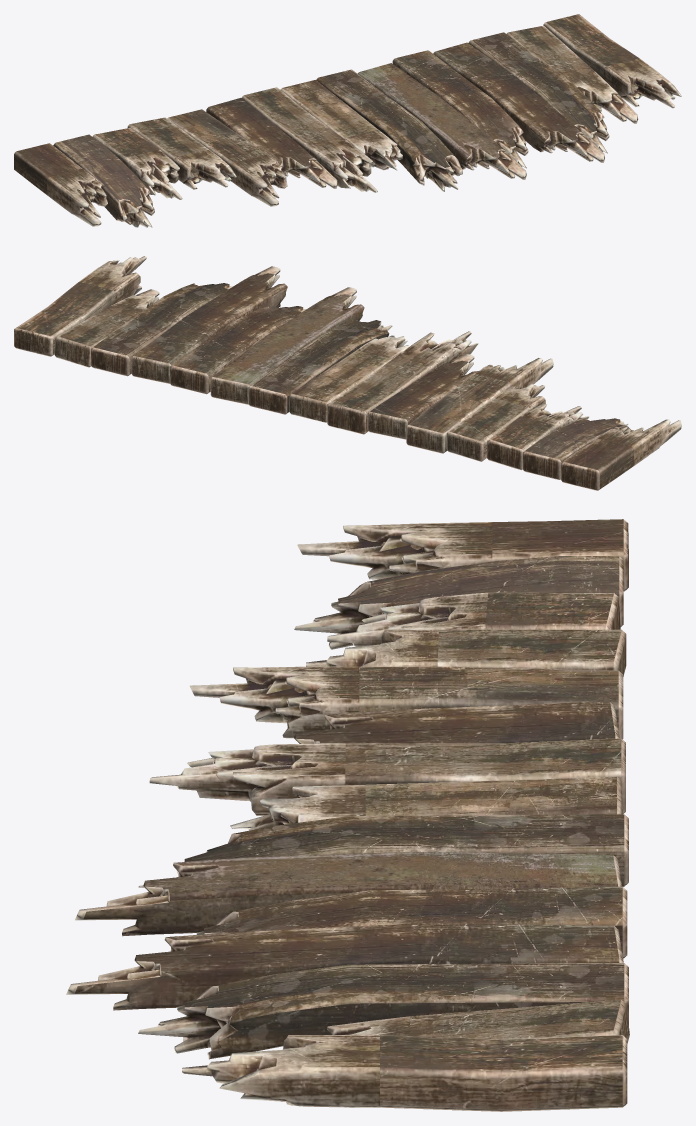
3 renders of one model, top to bottom at view 1: azimuth 30°, elevation 25°; view 2: azimuth 150°, elevation 25°; view 3: azimuth 270°, elevation 25°, orthographic. The views are drawn at different scales.
Visible parts, largest first — view 1: SM_Human_Ruins_Floor_Wood_Dmg_02_LOD0; view 2: SM_Human_Ruins_Floor_Wood_Dmg_02_LOD0; view 3: SM_Human_Ruins_Floor_Wood_Dmg_02_LOD0.
Part boxes in pixels (x1,y1,x2,y2): SM_Human_Ruins_Floor_Wood_Dmg_02_LOD0: (14,14,681,227); SM_Human_Ruins_Floor_Wood_Dmg_02_LOD0: (14,256,681,490); SM_Human_Ruins_Floor_Wood_Dmg_02_LOD0: (66,519,629,1111).
Bounding box in the file's own units: 4 × 0.2548 × 1.72.
Materials: 1 (1 with a texture image).
